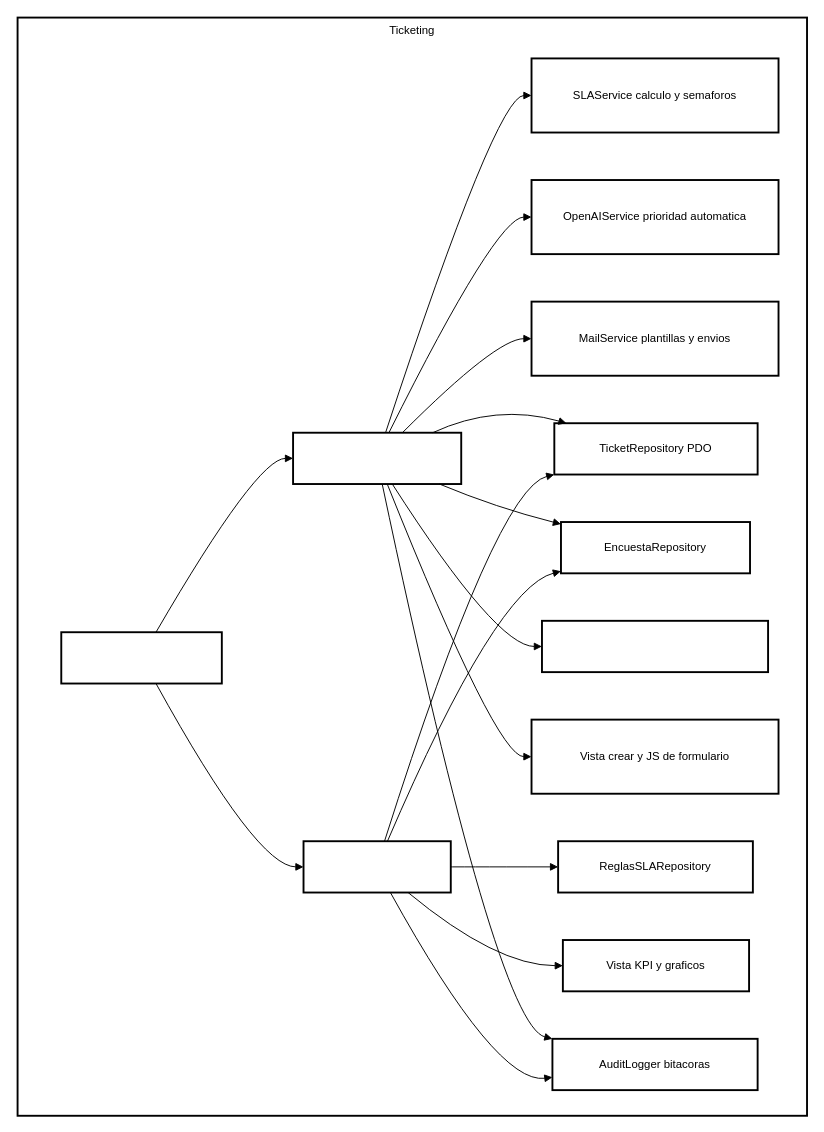
Some shapes in this 824 by 1132 pixel diagram are drawn without their labels. The centre of each missing label's shape, as x and y in pixels:
KPIController: (376,866)
Router a Ticket: (141,657)
TicketController: (377,457)
Vista lista y JS de listado: (655,646)
